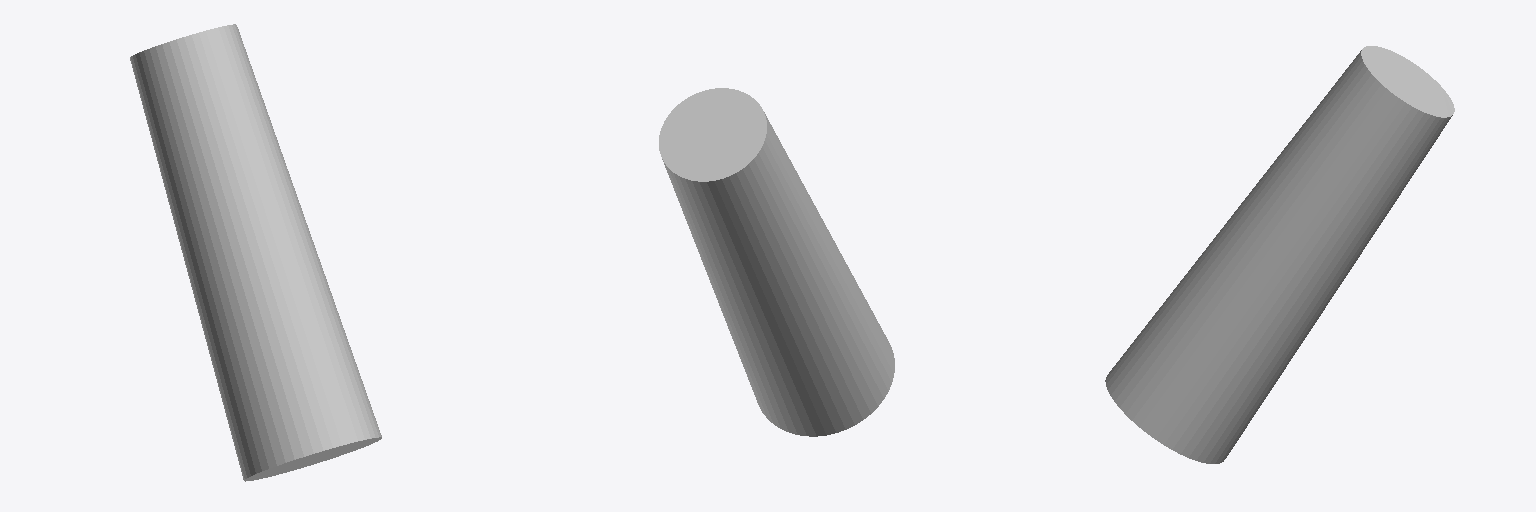
The model's file is Left Lower Arm.obj.
The picture shows the model from 3 angles: view 1: azimuth 30°, elevation 25°; view 2: azimuth 150°, elevation 25°; view 3: azimuth 270°, elevation 25°; orthographic projection.
Visible parts, largest first — view 1: Left_Lower_Arm_Sphere.029; view 2: Left_Lower_Arm_Sphere.029; view 3: Left_Lower_Arm_Sphere.029.
Boxes of the visible parts, box(x1,y1,x2,y2) form: Left_Lower_Arm_Sphere.029: box(130, 24, 381, 481); Left_Lower_Arm_Sphere.029: box(659, 88, 894, 436); Left_Lower_Arm_Sphere.029: box(1105, 46, 1454, 463).
Bounding box in the file's own units: 0.3956 × 1.19 × 0.9523.